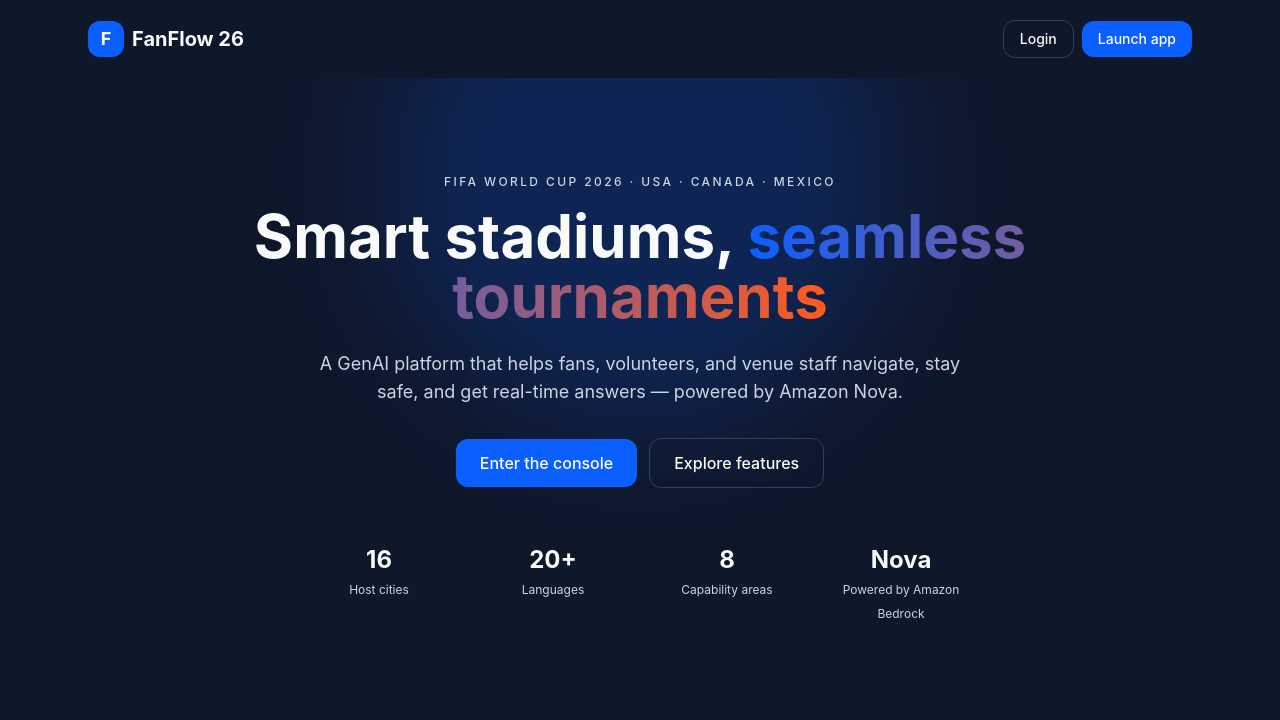
end-to-end flow: landing → login → dashboard › logs in from the landing page and reaches the operator dashboard
Note: Landing: click the header Login button.
Click the button "Login" at coordinates (1038, 39), box [1003,20,1074,58]
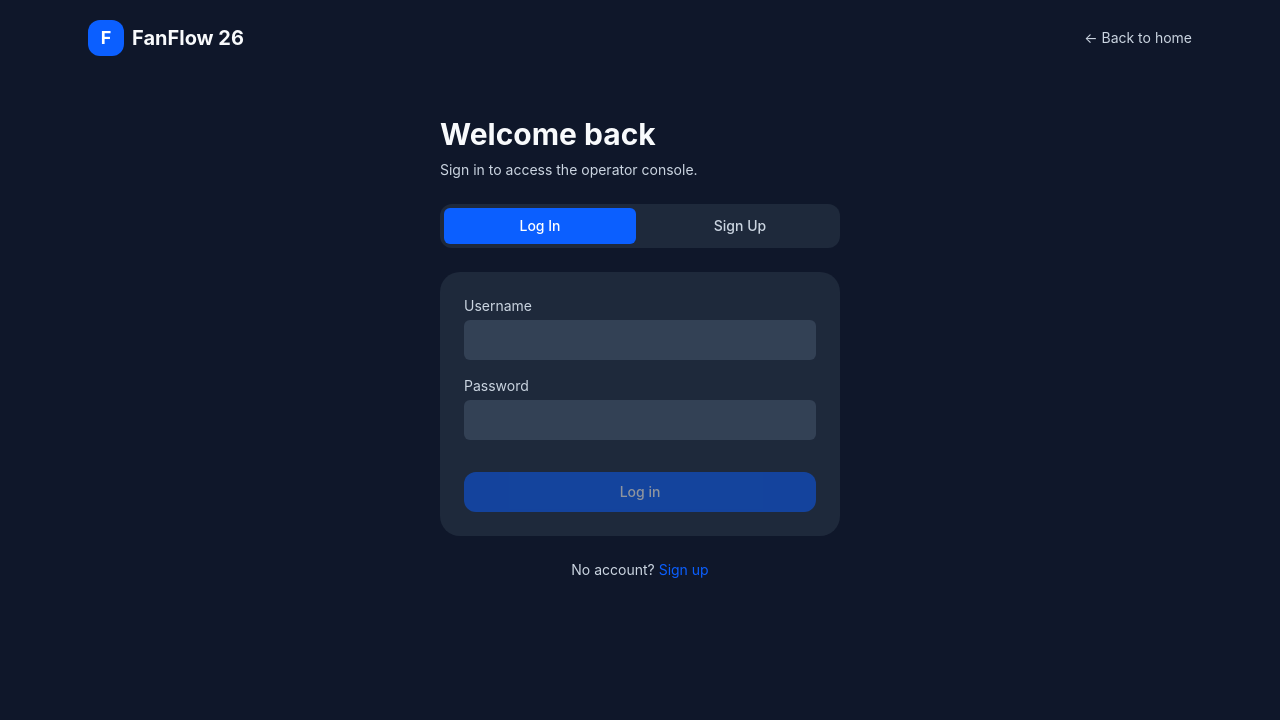
Note: Auth page: sign in.
Type "operator" into the field labelled "Username" at coordinates (640, 340), box [464,320,816,360]
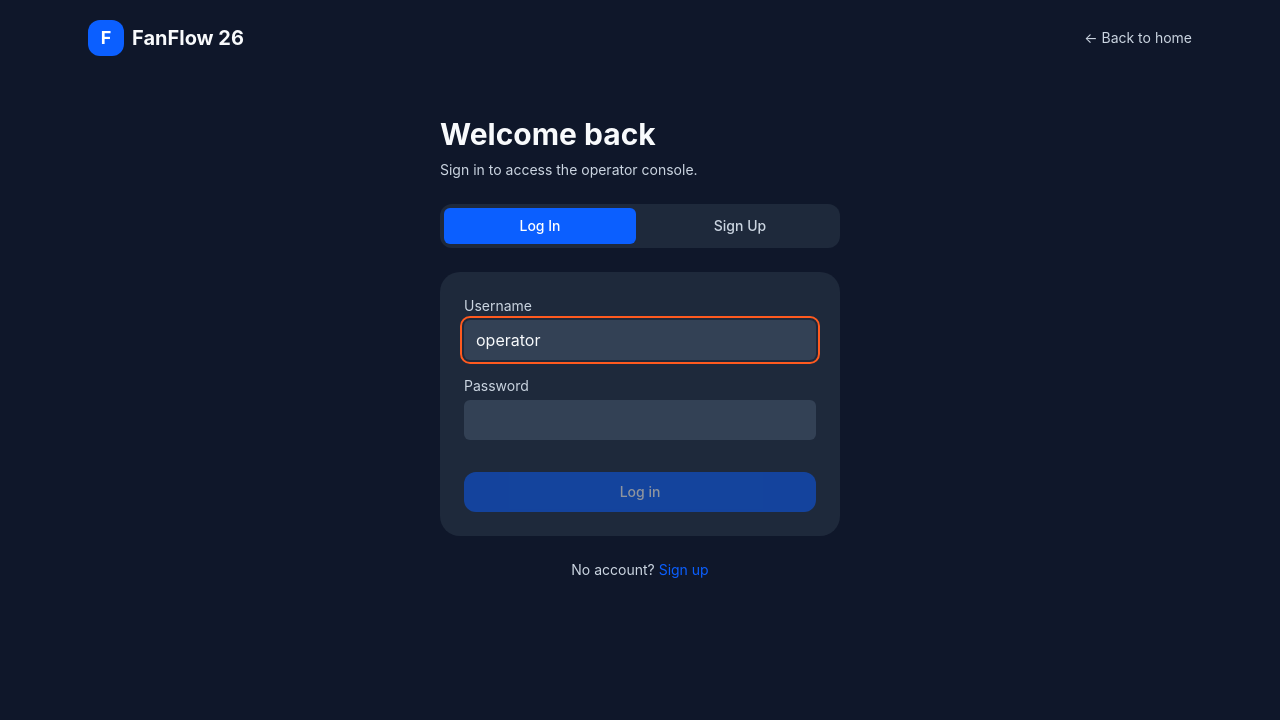
Type "operator123" into the password field labelled "Password" at coordinates (640, 420), box [464,400,816,440]
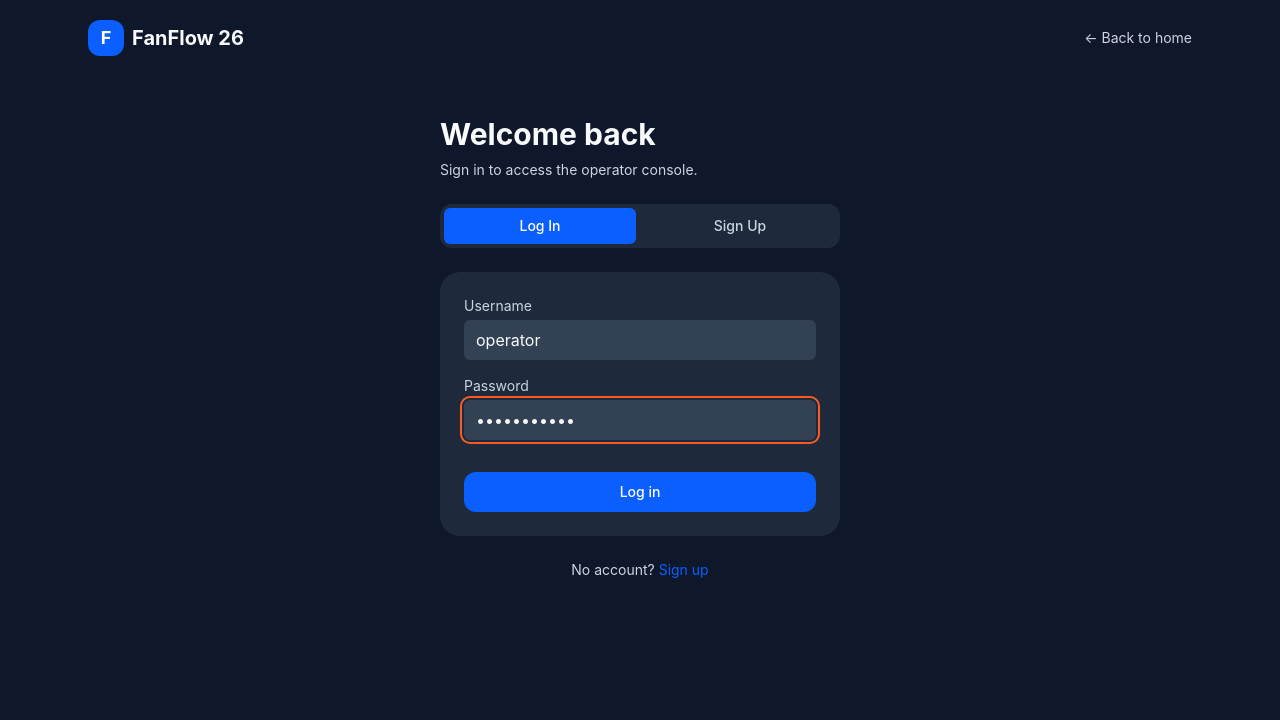
Click the button "Log in" at coordinates (640, 492), box [464,472,816,512]
(page scrolled)
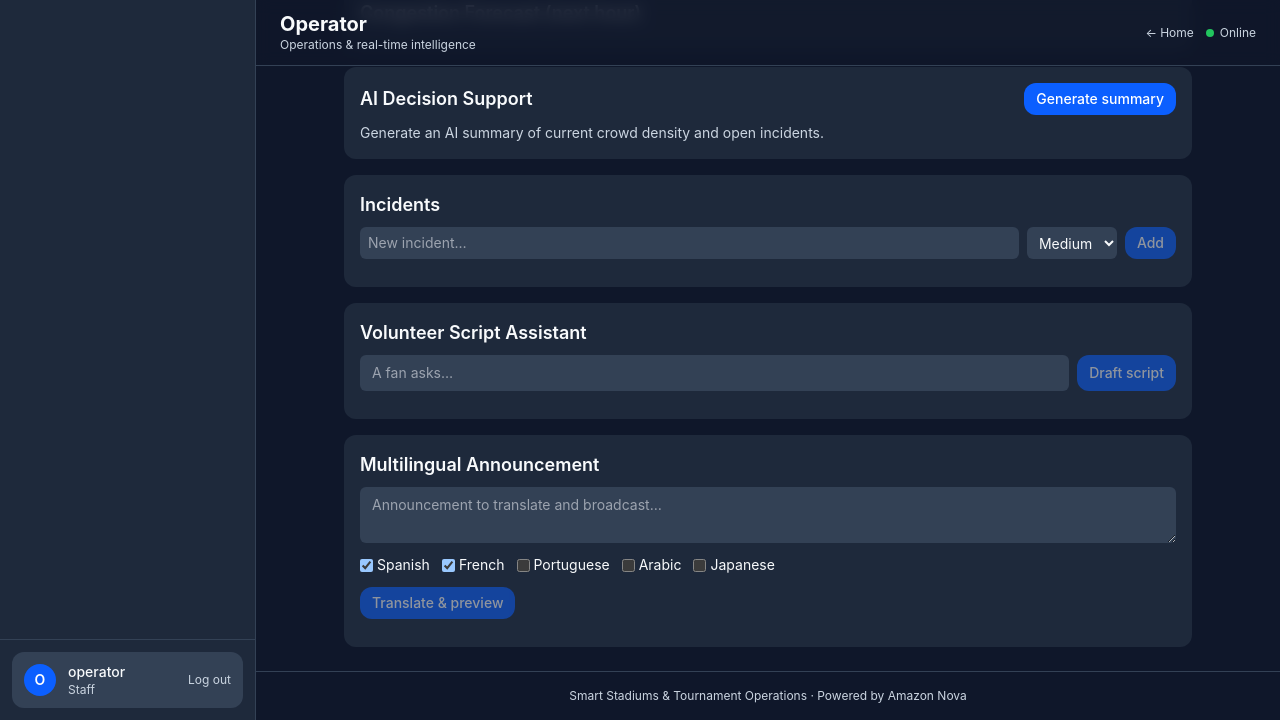
Check: the button "Log out" is shown, box [188,672,231,688]
